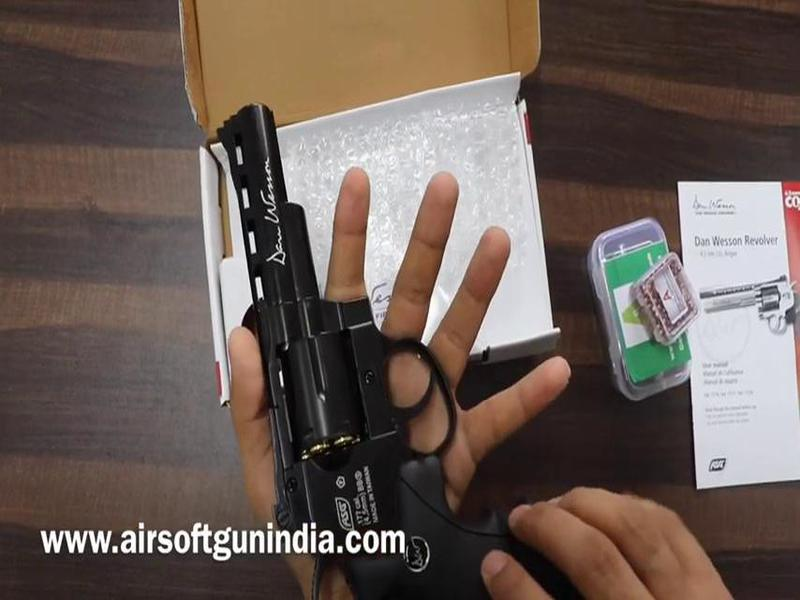Revolver: (212, 84, 484, 565)
